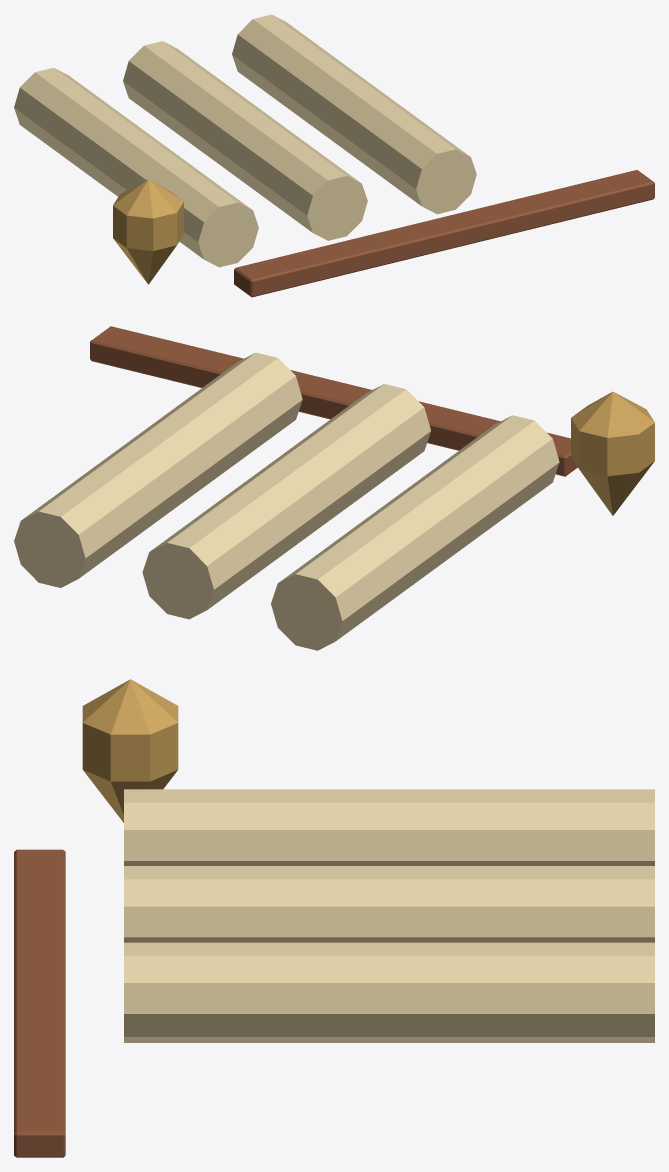
Rendered from residential_accessories_08.glb.
3 renders of one model, top to bottom at view 1: azimuth 30°, elevation 25°; view 2: azimuth 150°, elevation 25°; view 3: azimuth 270°, elevation 25°, orthographic. The views are drawn at different scales.
Visible parts, largest first — view 1: PaperRoll_002, PaperRoll_001, PaperRoll, Ruler, PlumbBob; view 2: PaperRoll, PaperRoll_001, PaperRoll_002, Ruler, PlumbBob; view 3: PaperRoll_002, PaperRoll, PaperRoll_001, Ruler, PlumbBob.
Boxes of the visible parts, x1,y1,x2,y2 form: PaperRoll_002: (232, 14, 476, 214); PaperRoll_001: (123, 41, 367, 240); PaperRoll: (14, 67, 258, 267); Ruler: (234, 170, 654, 297); PlumbBob: (113, 179, 183, 284); PaperRoll: (271, 415, 559, 650); PaperRoll_001: (142, 384, 430, 619); PaperRoll_002: (14, 352, 302, 587); Ruler: (90, 326, 577, 476); PlumbBob: (571, 391, 654, 515); PaperRoll_002: (124, 942, 654, 1042); PaperRoll: (124, 789, 654, 865); PaperRoll_001: (124, 866, 654, 942); Ruler: (14, 849, 65, 1157); PlumbBob: (82, 679, 178, 822).
Size of the model in its own units: 0.637 by 0.13 by 0.495.
